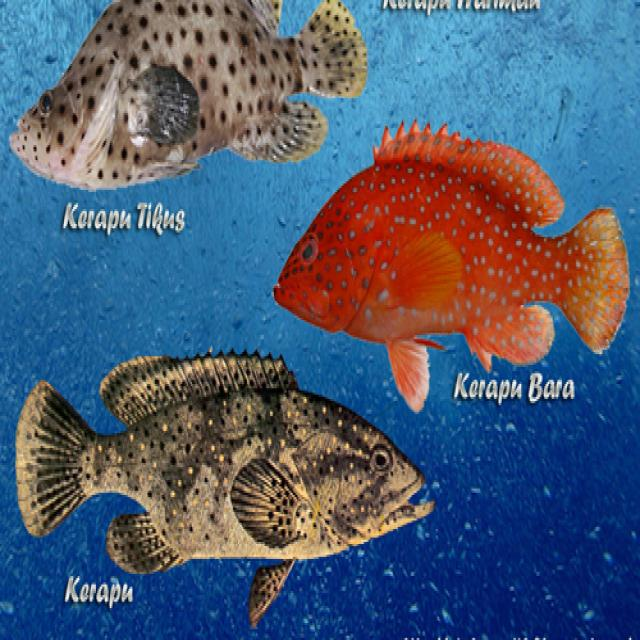Plectropomus-leopardus: (271, 102, 640, 414)
